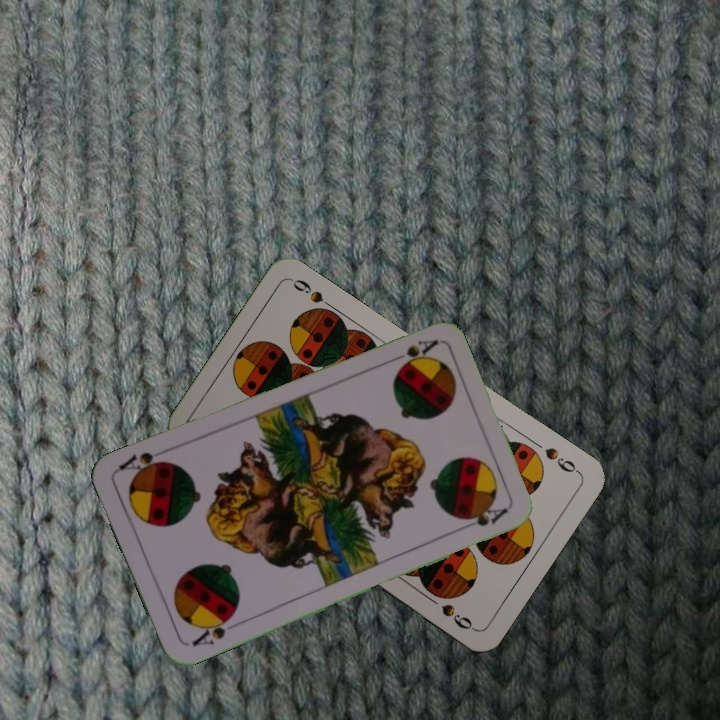S9: (540, 443, 583, 476)
SA: (188, 610, 238, 649), (383, 335, 440, 368)
